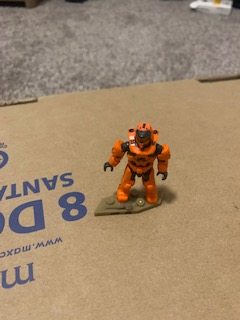soldier: (102, 120, 174, 209)
